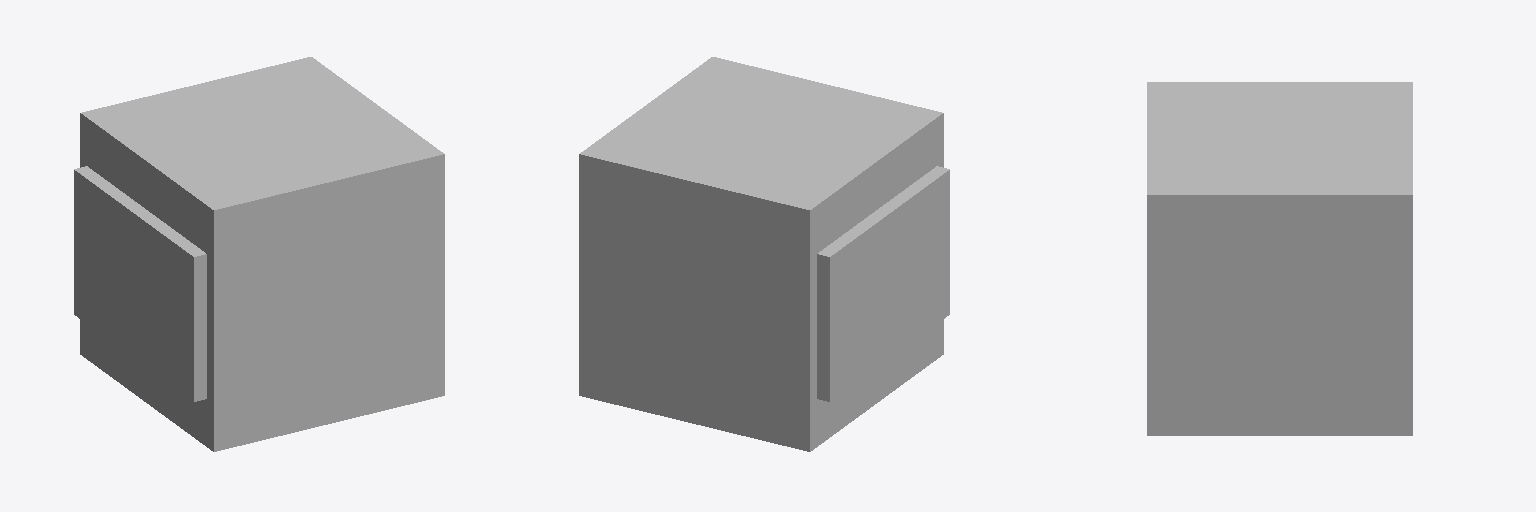
File: room_window.obj
3 views of the same model, side by side, from view 1: azimuth 30°, elevation 25°; view 2: azimuth 150°, elevation 25°; view 3: azimuth 270°, elevation 25° (orthographic).
Visible parts, largest first — view 1: cube; view 2: cube; view 3: cube.
Boxes of the visible parts, x1,y1,x2,y2 form: cube: [74, 57, 444, 451]; cube: [579, 57, 949, 451]; cube: [1147, 82, 1412, 435].
Size of the model in its own units: 1.06 by 1 by 1.